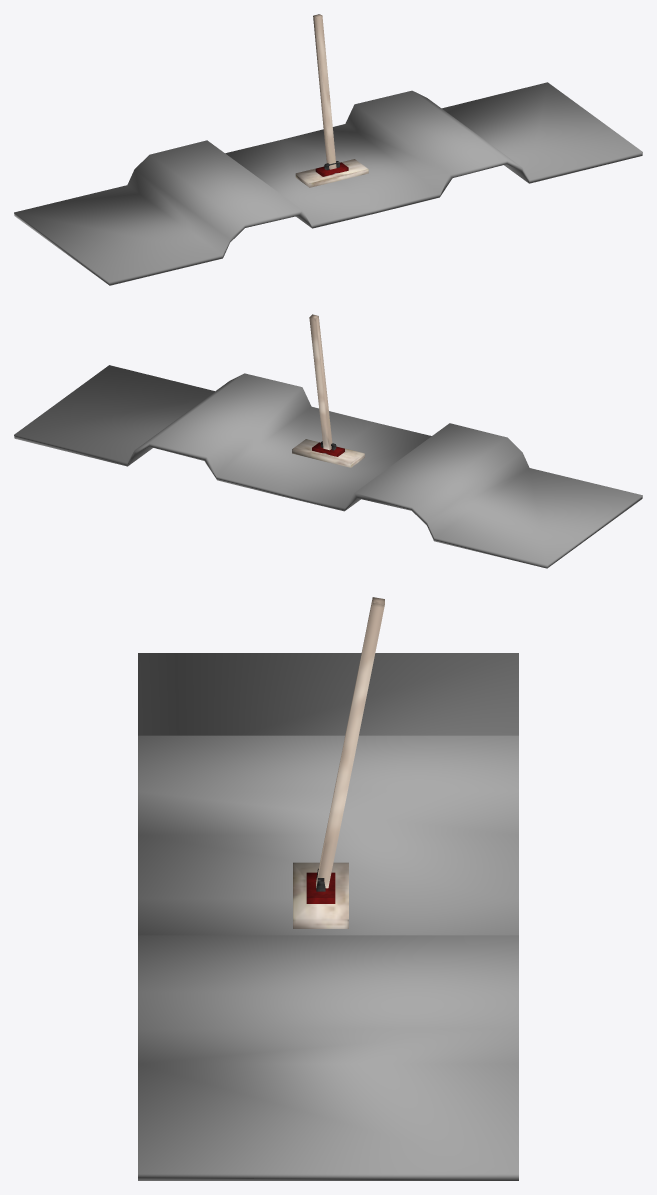
File: RemainingMeshes.fbx
The picture shows the model from 3 angles, top to bottom: view 1: azimuth 30°, elevation 25°; view 2: azimuth 150°, elevation 25°; view 3: azimuth 270°, elevation 25°; orthographic projection. The views are drawn at different scales.
Parts seen in each view (by area): view 1: Ceiling, Broom; view 2: Ceiling, Broom; view 3: Ceiling, Broom, Medkit.
Part boxes in pixels (x1,y1,x2,y2): Ceiling: (14, 82, 642, 285); Broom: (295, 14, 368, 187); Ceiling: (14, 365, 642, 568); Broom: (292, 314, 364, 467); Ceiling: (138, 653, 518, 1180); Broom: (293, 597, 384, 928); Medkit: (306, 868, 335, 903).
Bounding box in the file's own units: 1884 × 565 × 583.
